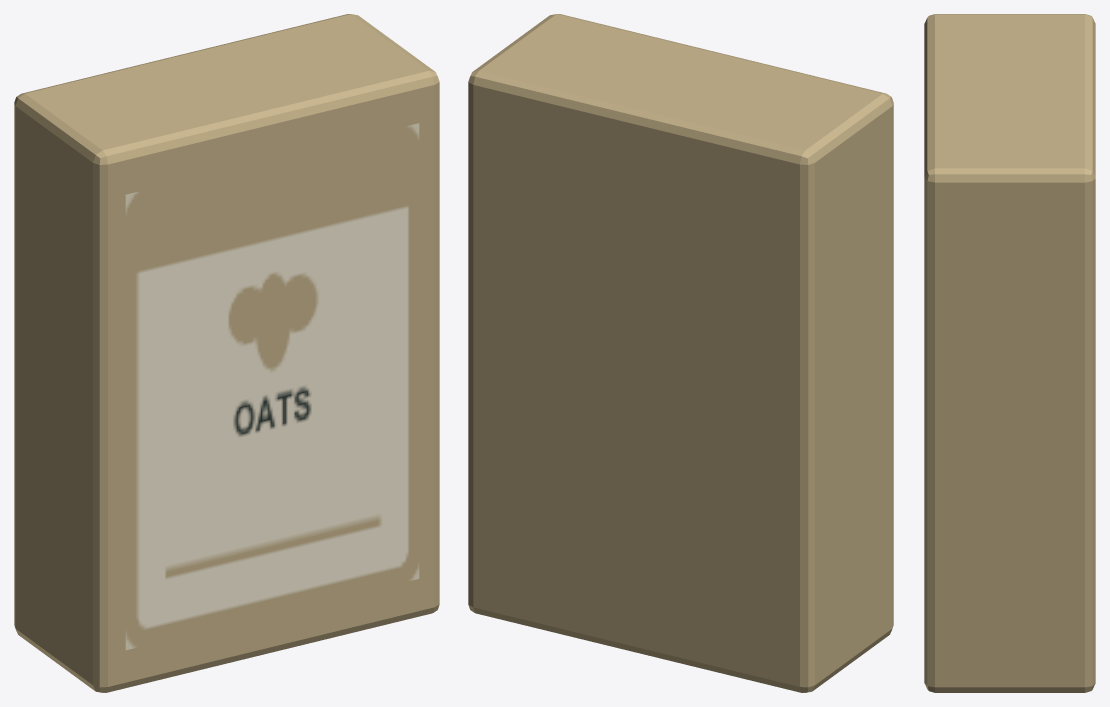
File: oats.fbx
3 renders of one model, left to right at view 1: azimuth 30°, elevation 25°; view 2: azimuth 150°, elevation 25°; view 3: azimuth 270°, elevation 25°, orthographic. The views are drawn at different scales.
Visible parts, largest first — view 1: oats; view 2: oats; view 3: oats.
Part boxes in pixels (left/top/right/bottom): oats: left=14, top=14, right=439, bottom=692; oats: left=468, top=14, right=893, bottom=692; oats: left=924, top=14, right=1095, bottom=692.
Bounding box in the file's own units: 18 × 27 × 8.1.
